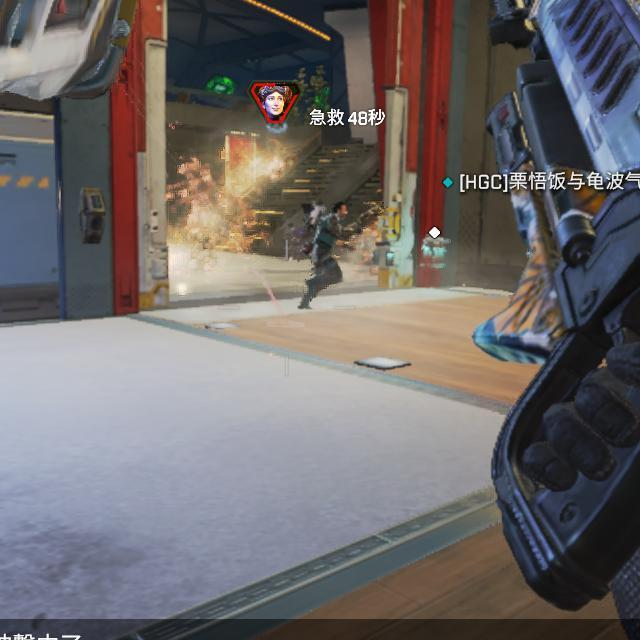avatar: (298, 197, 350, 312)
